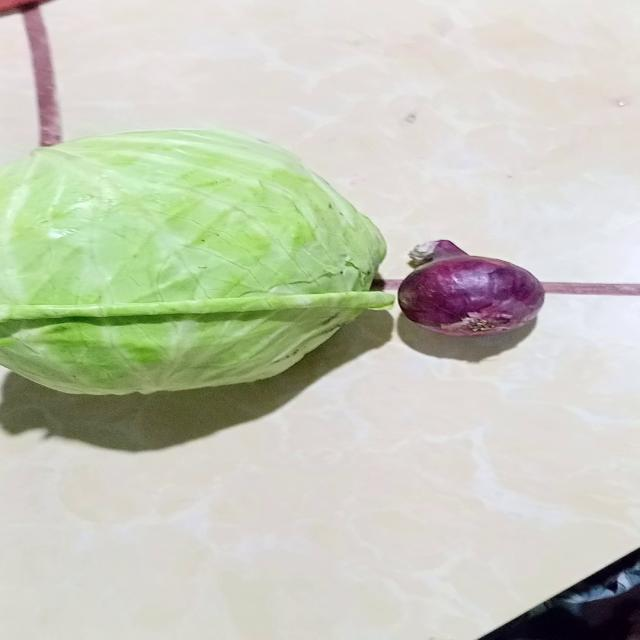cabbage: (0, 128, 396, 398)
onion: (395, 241, 545, 340)
